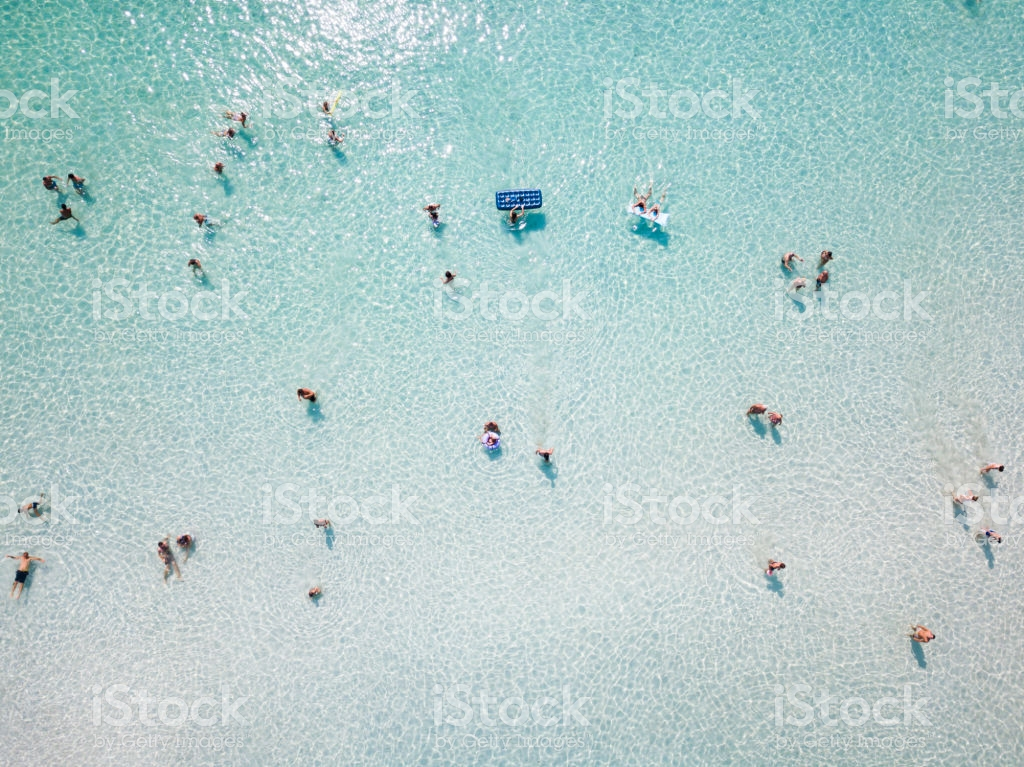people: (463, 434, 521, 476), (143, 530, 184, 589), (6, 546, 48, 602), (898, 618, 955, 656), (469, 416, 513, 460), (455, 404, 524, 431), (287, 377, 331, 413), (311, 125, 361, 156), (183, 207, 228, 241), (220, 100, 265, 132), (171, 513, 206, 554), (28, 167, 68, 201), (297, 581, 338, 614), (44, 201, 89, 231), (415, 202, 459, 232), (973, 454, 1008, 490), (58, 162, 96, 195), (970, 525, 1006, 559), (18, 486, 50, 524), (941, 483, 980, 513), (177, 251, 212, 283), (643, 190, 671, 230), (198, 154, 239, 181), (530, 441, 566, 471), (804, 246, 847, 271), (759, 553, 791, 586), (309, 92, 347, 119), (766, 396, 789, 437), (432, 269, 471, 292), (625, 184, 649, 218), (736, 400, 771, 423), (211, 121, 243, 146), (775, 276, 814, 296), (311, 518, 344, 540), (505, 208, 531, 224)
